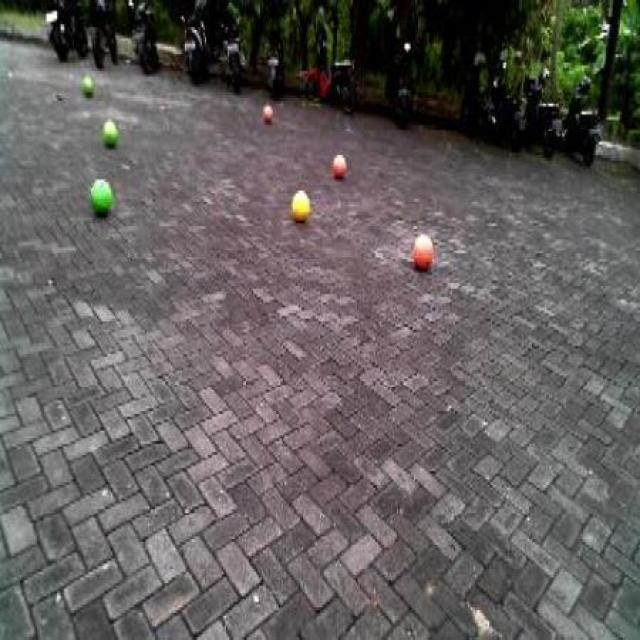buoy: (84, 162, 118, 228), (405, 222, 441, 281), (94, 101, 125, 161), (285, 175, 315, 230), (253, 87, 282, 136), (71, 60, 98, 98), (328, 139, 348, 185)
